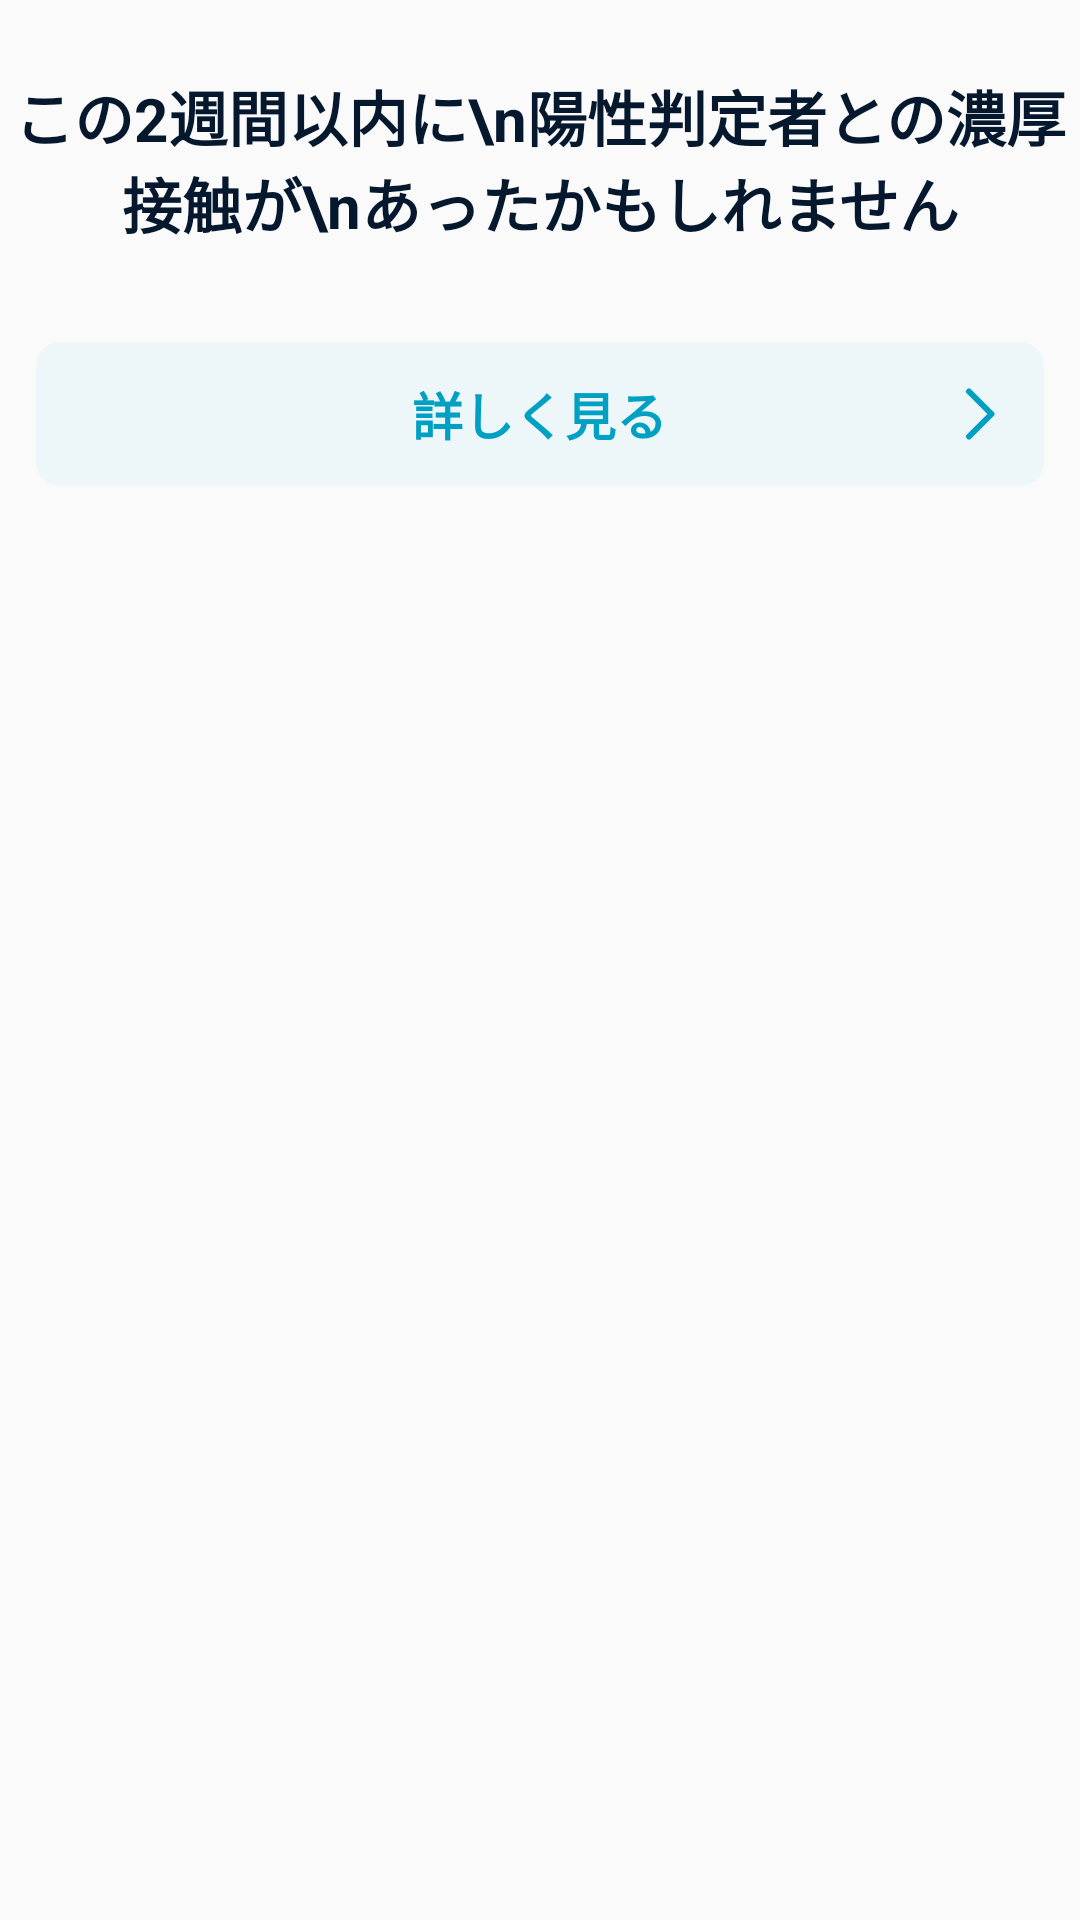

Icon click points for this 1080w x 1920h phone screenshot, format (x=x, y=y):
arrow next: (x=980, y=414)
